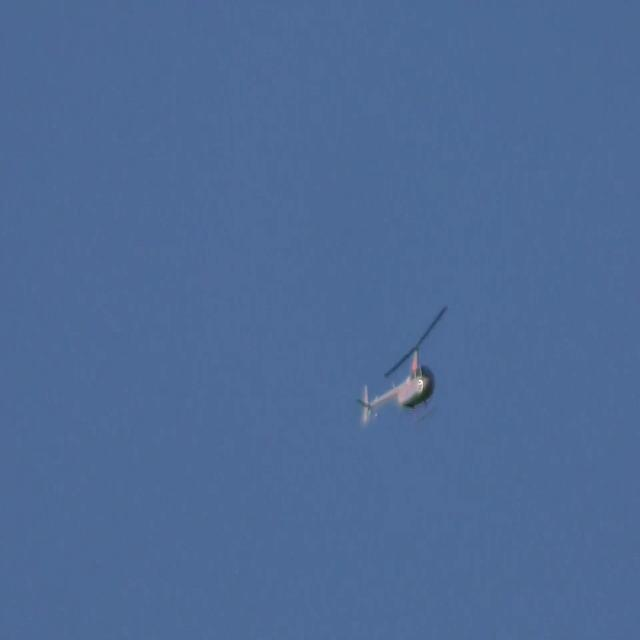CIV_HELO: (356, 343, 439, 429)
